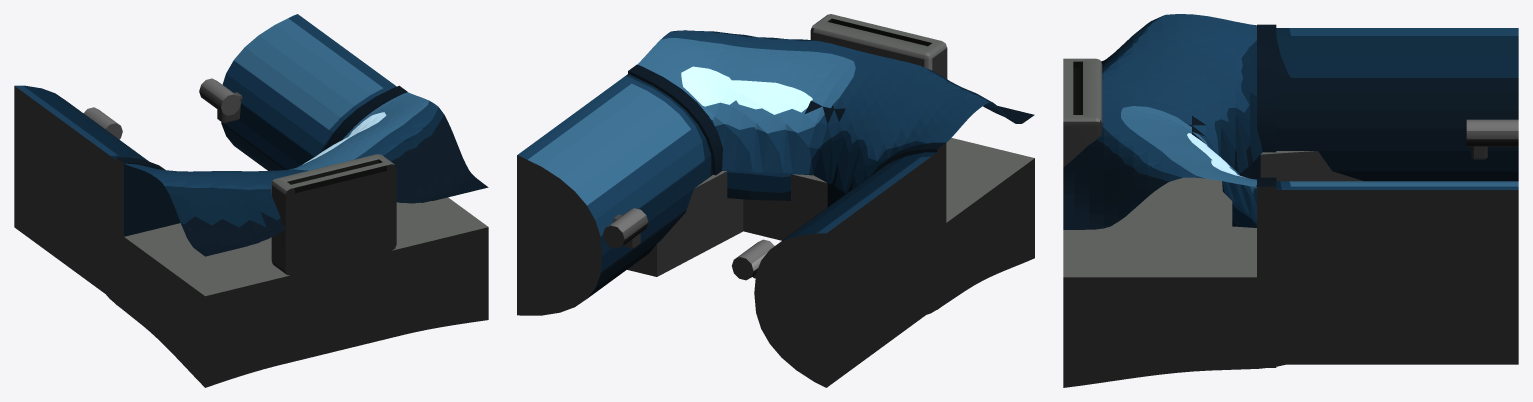
The model's file is camanis_boss_81.glb.
3 renders of one model, left to right at view 1: azimuth 30°, elevation 25°; view 2: azimuth 150°, elevation 25°; view 3: azimuth 270°, elevation 25°, orthographic. The views are drawn at different scales.
Visible parts, largest first — view 1: camanis_boss_81; view 2: camanis_boss_81; view 3: camanis_boss_81.
Boxes of the visible parts, x1,y1,x2,y2 form: camanis_boss_81: (14, 14, 488, 387); camanis_boss_81: (517, 14, 1034, 387); camanis_boss_81: (1063, 14, 1518, 387).
Bounding box in the file's own units: 24 × 14.51 × 28.
